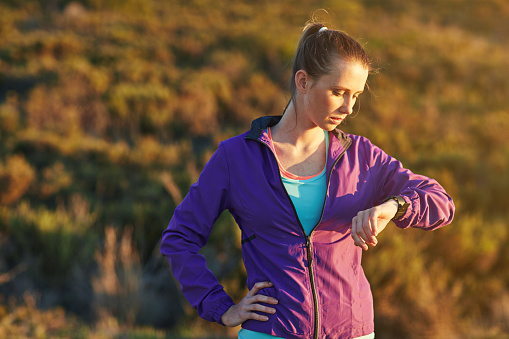em pe: (162, 37, 443, 339)
